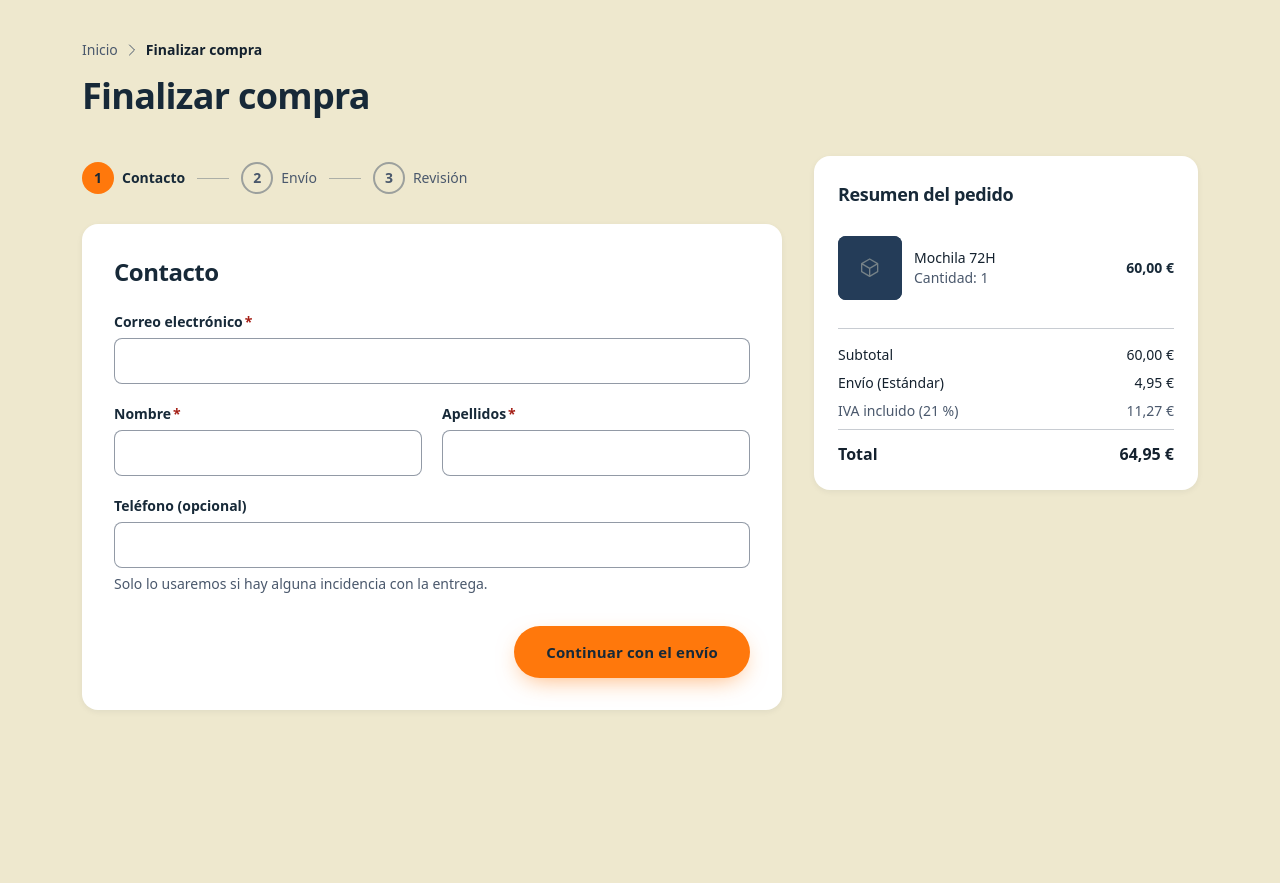
CheckoutFlow › advances to shipping, tracks the step and moves focus to the step heading
Step 1. Type "Ana@Example.es" into the field labelled "Correo electrónico" → point(432, 361), box top-left (114, 338), bottom-right (750, 384)
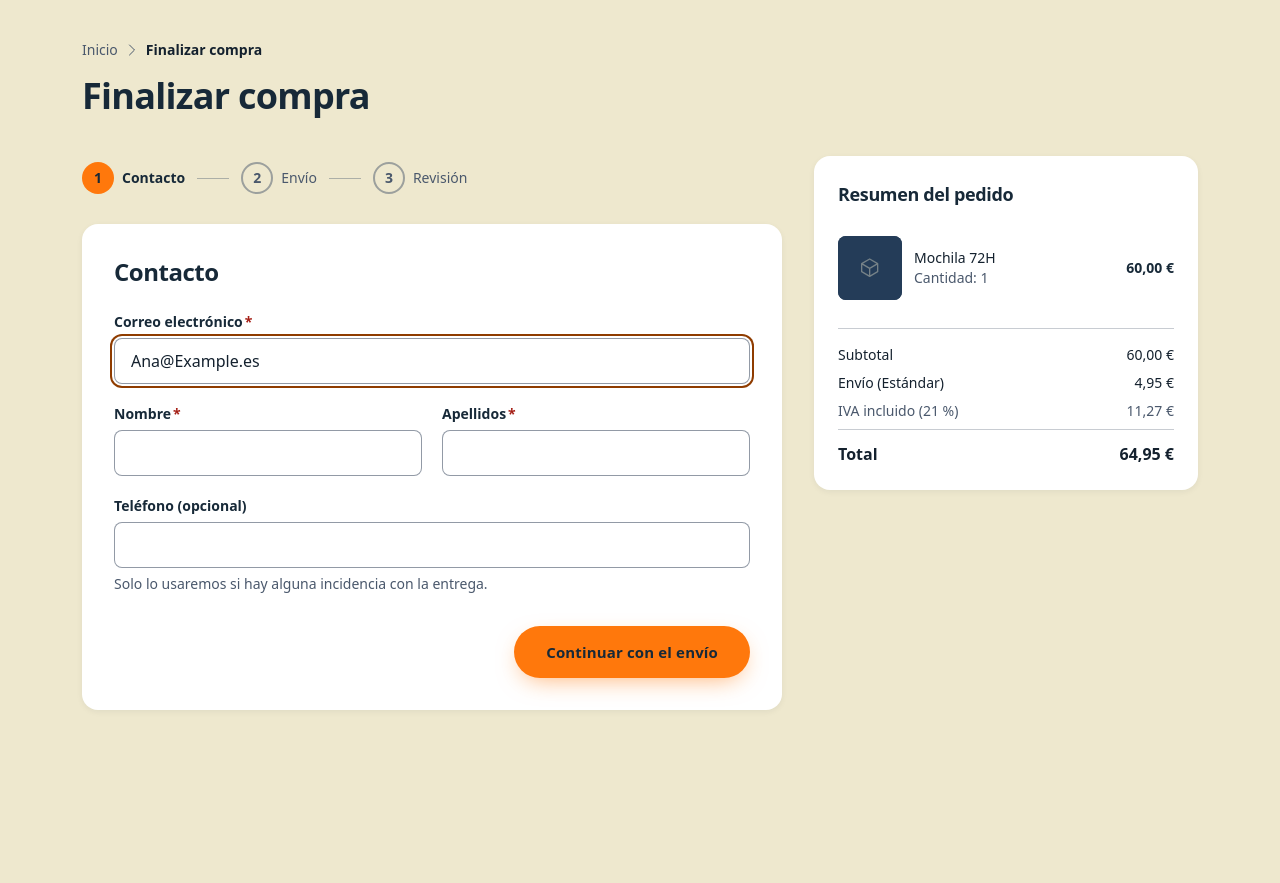
Step 2. Type "Ana" into the field labelled "Nombre" → point(268, 453), box top-left (114, 430), bottom-right (422, 476)
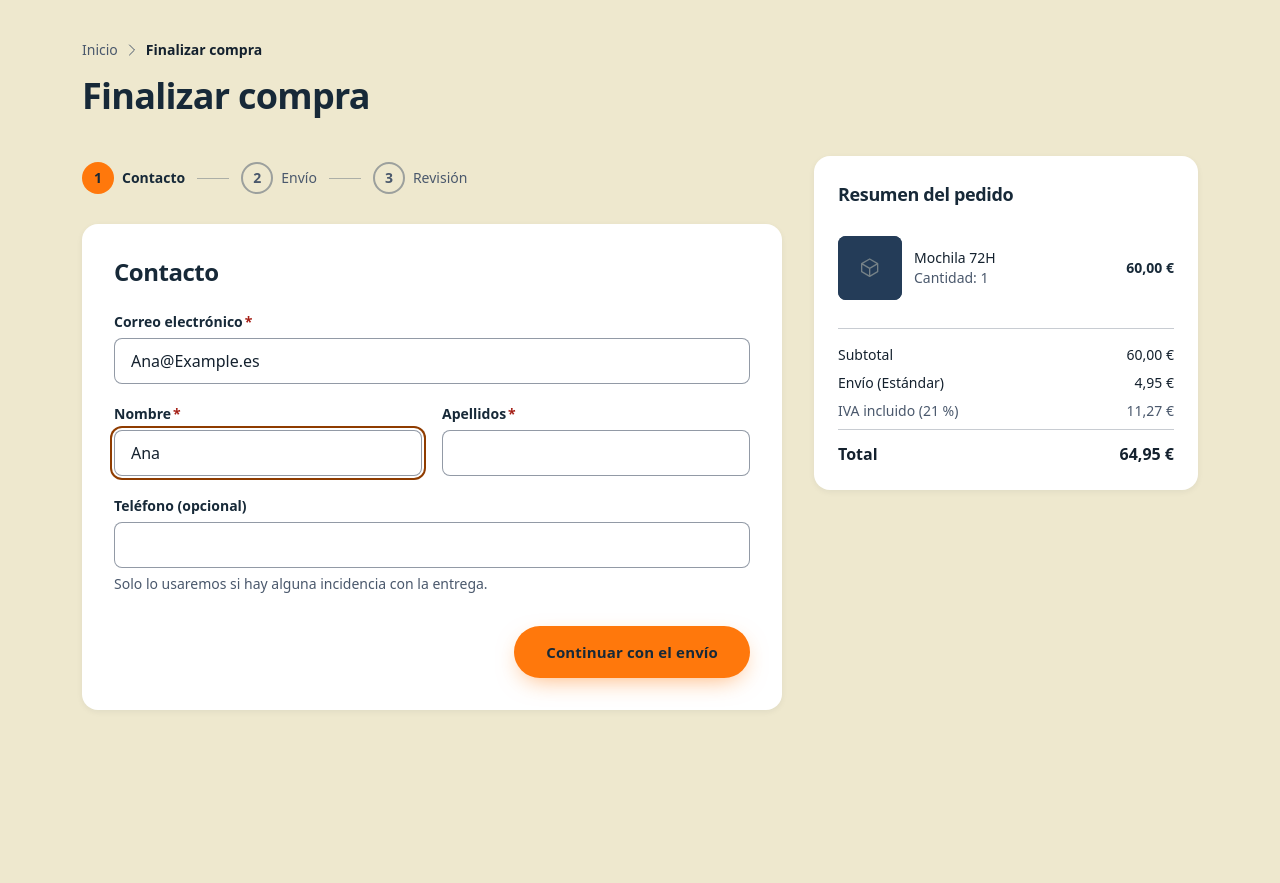
Step 3. Type "García" into the field labelled "Apellidos" → point(596, 453), box top-left (442, 430), bottom-right (750, 476)
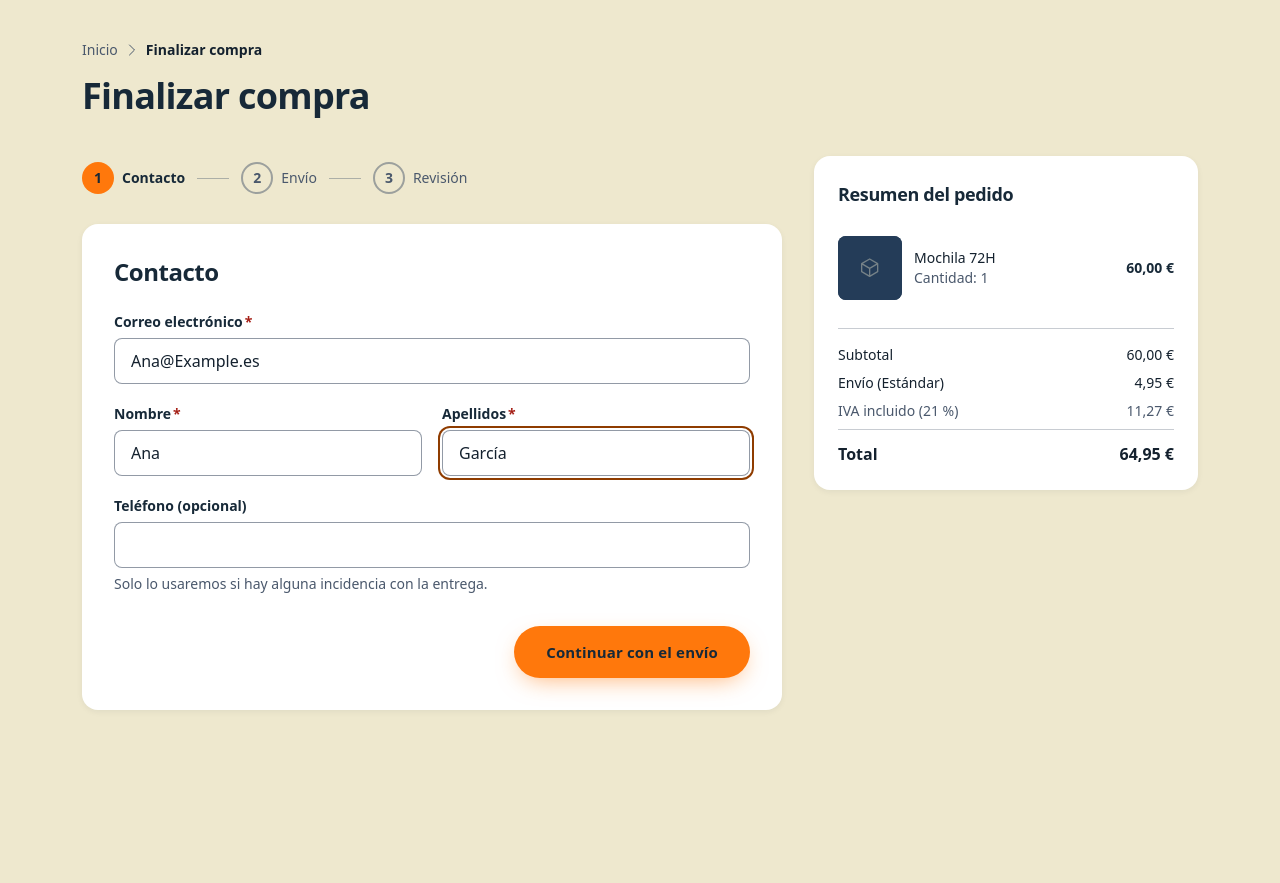
Step 4. Click the button "Continuar con el envío" → point(632, 652), box top-left (514, 626), bottom-right (750, 678)
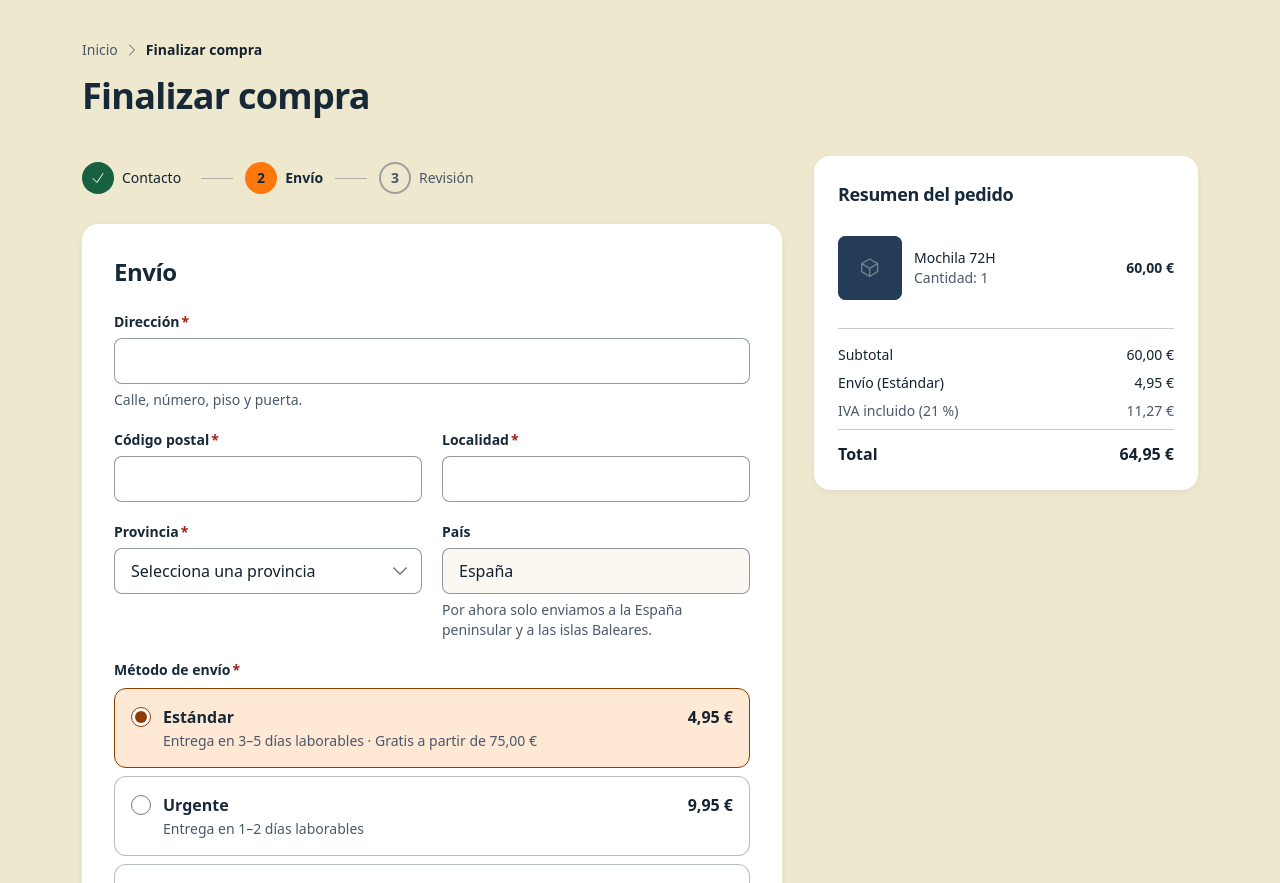
Expected: the button "Contacto" is shown, top-left (82, 156), bottom-right (189, 200)
Expected: the heading "Envío" is shown, top-left (114, 255), bottom-right (177, 288)
